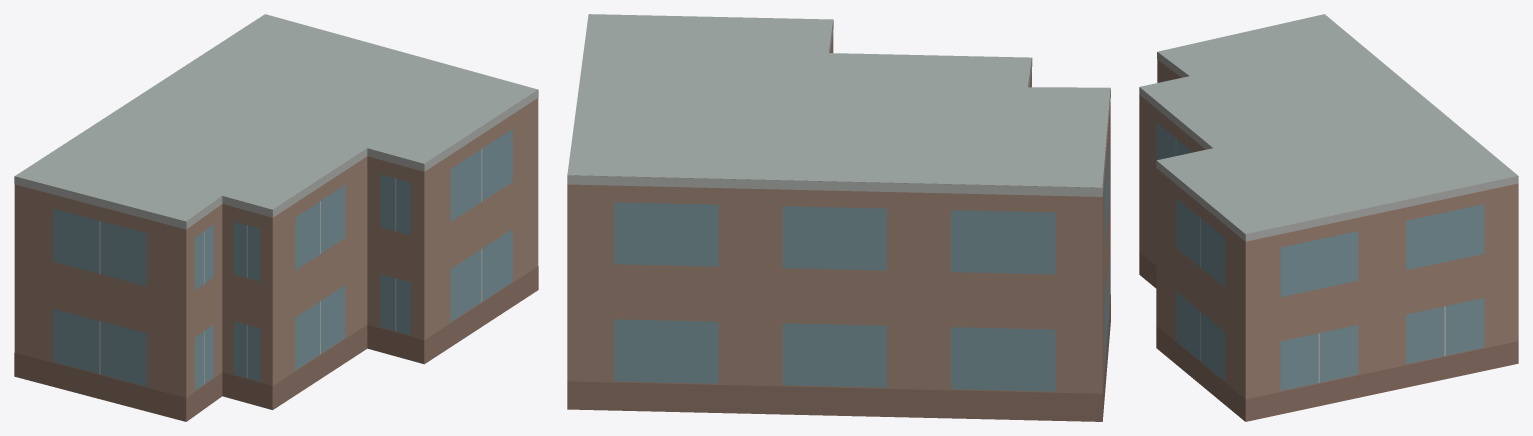
File: survey-upis-32837305.glb
The picture shows the model from 3 angles, left to right: view 1: azimuth 30°, elevation 25°; view 2: azimuth 150°, elevation 25°; view 3: azimuth 270°, elevation 25°; orthographic projection. The views are drawn at different scales.
Visible parts, largest first — view 1: survey-upis-32837305.tmp; view 2: survey-upis-32837305.tmp; view 3: survey-upis-32837305.tmp.
Part boxes in pixels (x1,y1,x2,y2): survey-upis-32837305.tmp: (14,14,538,421); survey-upis-32837305.tmp: (567,14,1110,421); survey-upis-32837305.tmp: (1139,14,1518,421).
Bounding box in the file's own units: 15.36 × 6.1 × 11.18.
